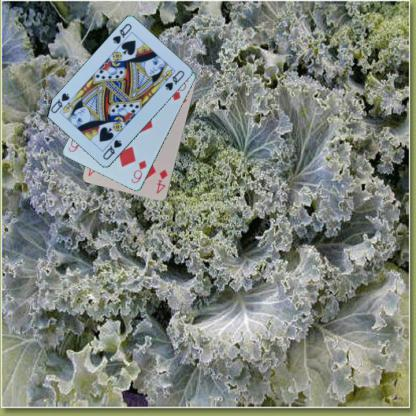4d: (154, 167, 169, 195)
6d: (128, 158, 148, 185)
Qs: (110, 20, 133, 46), (100, 138, 123, 161)
